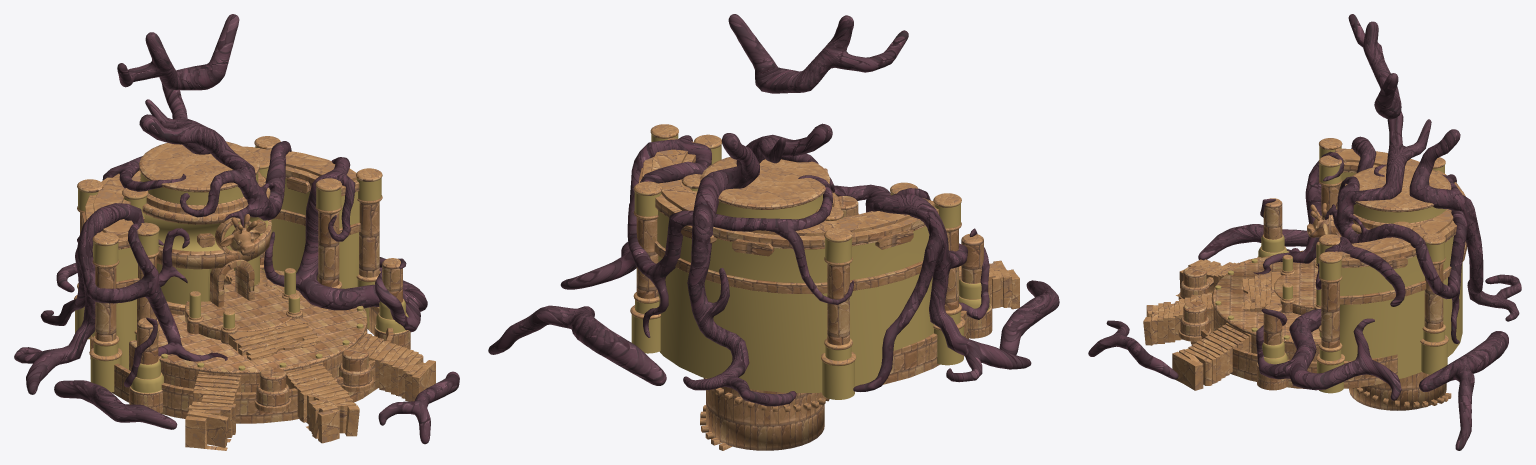
Rendered from Temple.fbx.
The picture shows the model from 3 angles, left to right: view 1: azimuth 30°, elevation 25°; view 2: azimuth 150°, elevation 25°; view 3: azimuth 270°, elevation 25°; orthographic projection. The views are drawn at different scales.
Visible parts, largest first — view 1: Colonne.002; view 2: Colonne.002; view 3: Colonne.002.
Part boxes in pixels (bbox=[...]): Colonne.002: bbox=[14, 14, 459, 450]; Colonne.002: bbox=[488, 14, 1059, 450]; Colonne.002: bbox=[1088, 14, 1521, 450].
Bounding box in the file's own units: 12243 × 10574 × 12050.
